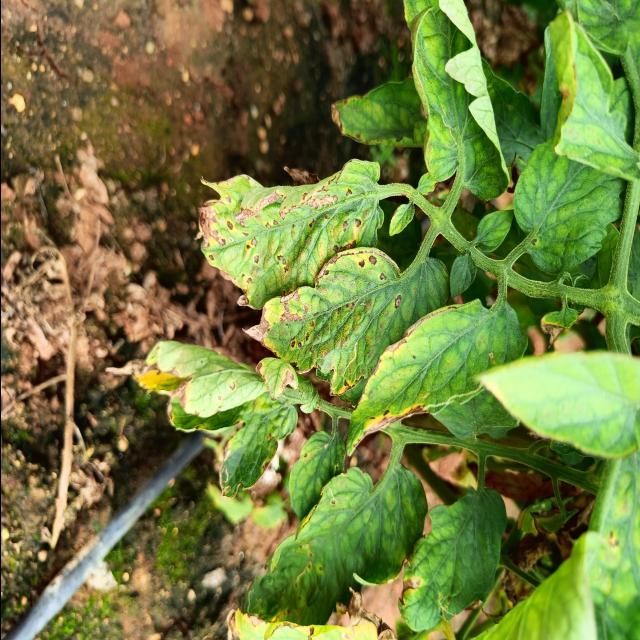Tomato mosaic virus leaf: (189, 154, 385, 312), (241, 243, 405, 402), (338, 321, 422, 466)
